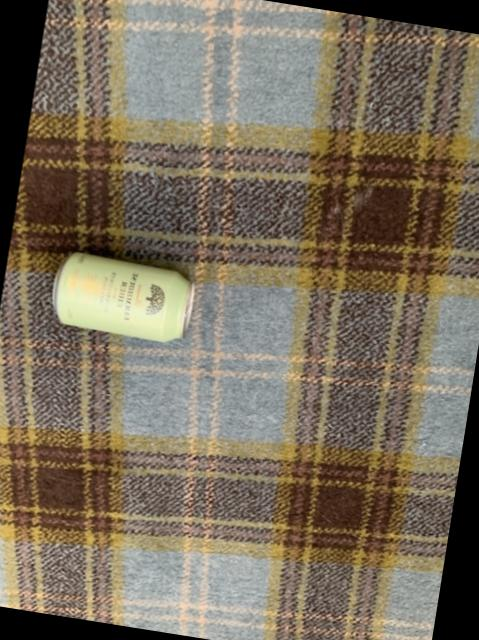metal: (50, 253, 191, 342)
